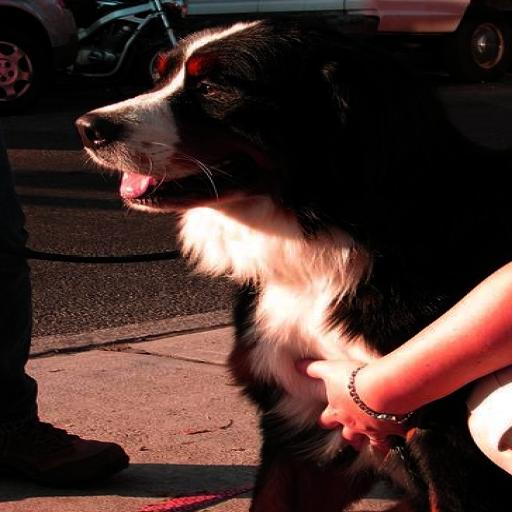dog_face: (86, 21, 387, 216)
